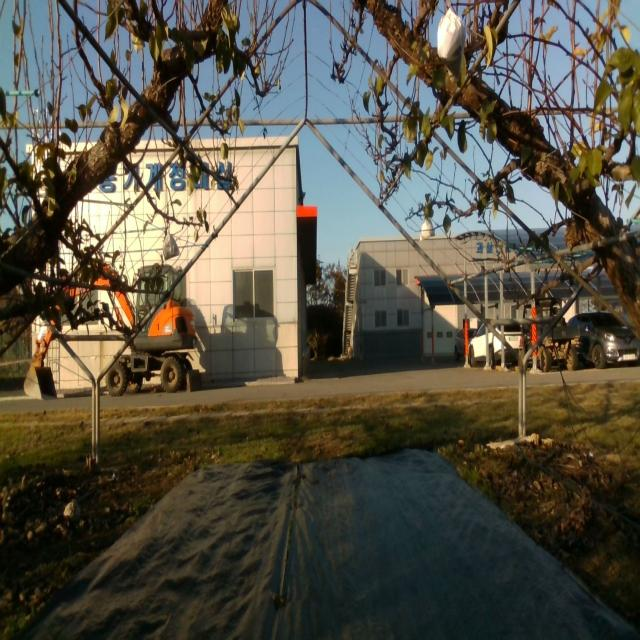pearbags: (437, 6, 466, 73), (162, 232, 180, 260), (420, 218, 435, 242)
